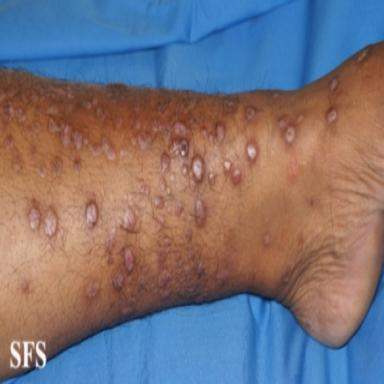Epidermolysis-Bullosa-Pruriginosa: (0, 69, 75, 131), (48, 118, 83, 149), (278, 114, 303, 144), (117, 207, 137, 233), (45, 210, 57, 237), (106, 84, 127, 99), (102, 137, 115, 161), (11, 145, 23, 171), (195, 198, 206, 226), (170, 140, 188, 157), (25, 121, 41, 140), (85, 202, 97, 227), (157, 98, 172, 116), (192, 157, 203, 181), (29, 207, 40, 230), (158, 270, 172, 287), (216, 268, 229, 286), (86, 282, 99, 299), (138, 133, 151, 150), (137, 178, 150, 195), (174, 122, 187, 137), (247, 142, 257, 161), (113, 274, 124, 291), (125, 249, 133, 271), (52, 158, 61, 177), (245, 106, 256, 121), (232, 167, 241, 185), (106, 234, 114, 254), (89, 145, 102, 157), (327, 109, 337, 124), (216, 124, 224, 142), (161, 153, 169, 171), (223, 159, 232, 174), (175, 201, 183, 217), (185, 227, 193, 243), (329, 78, 338, 92), (97, 106, 106, 120), (131, 116, 140, 130), (37, 165, 46, 178), (225, 101, 235, 112), (155, 197, 164, 209), (73, 158, 80, 173), (5, 136, 13, 149), (114, 116, 122, 129), (22, 280, 29, 294), (152, 120, 160, 132), (121, 307, 133, 315), (157, 214, 165, 226), (160, 178, 167, 191), (264, 233, 271, 246), (189, 179, 196, 191), (209, 173, 215, 185), (181, 165, 187, 177), (83, 100, 91, 109), (201, 128, 207, 137), (131, 137, 137, 146), (167, 186, 172, 195), (170, 174, 175, 182), (92, 97, 97, 105), (167, 207, 172, 214), (273, 93, 280, 98), (209, 134, 213, 142), (181, 213, 185, 221), (164, 201, 168, 207)
